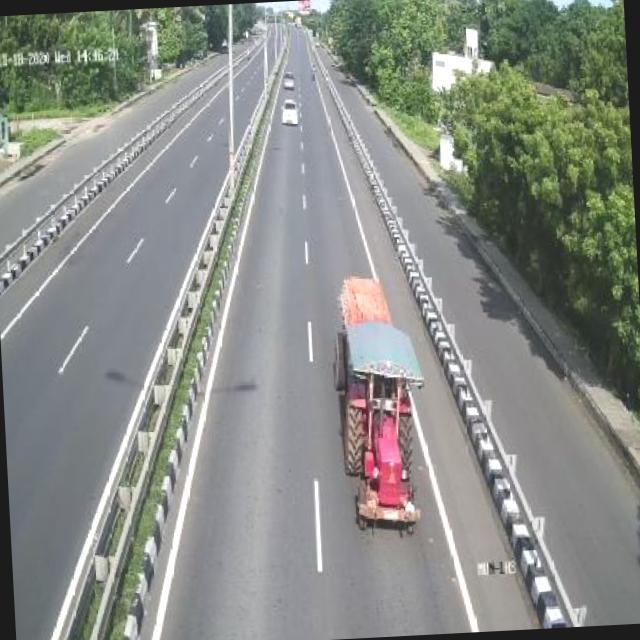car: (278, 95, 300, 128)
